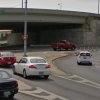Car: (9, 46, 59, 83)
